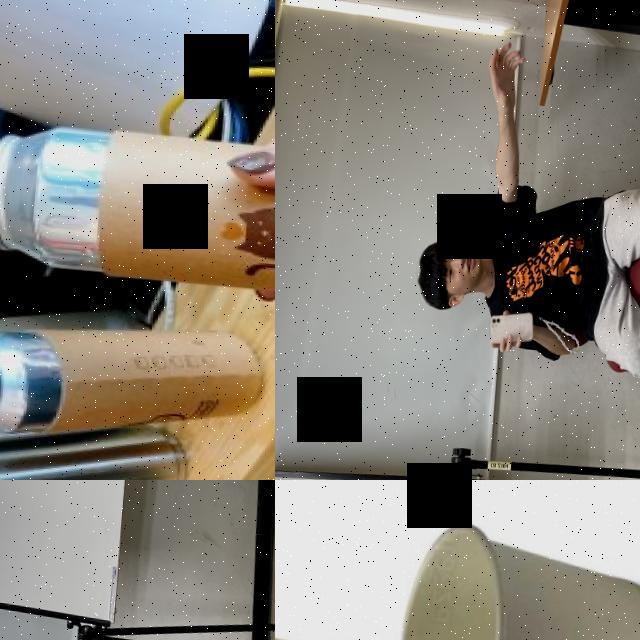can: (0, 117, 275, 314), (0, 304, 264, 456), (0, 402, 195, 480)
cup: (387, 513, 640, 640)
